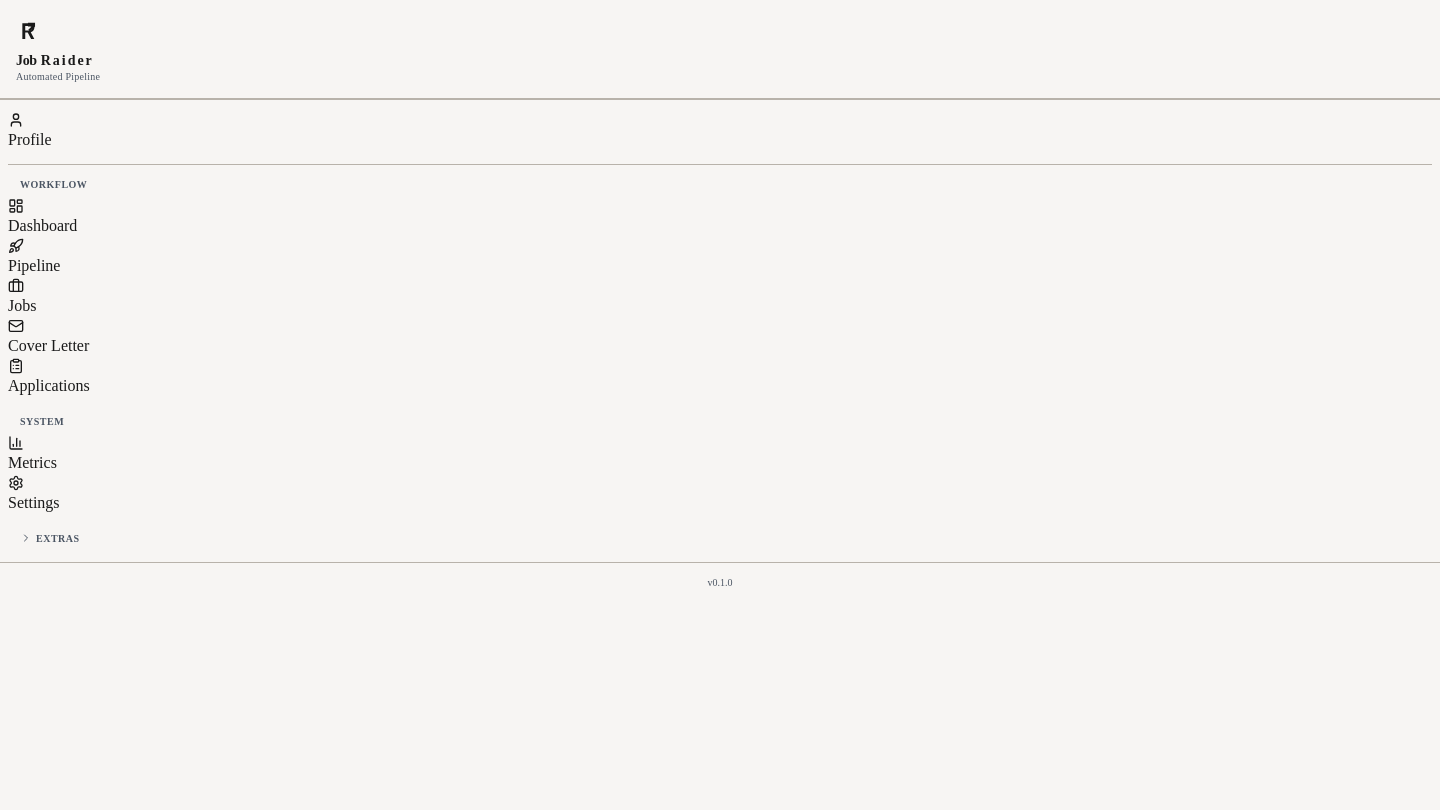
Test case: SidebarContent › opens the extras on a click
Click the button "Extras": (58, 538) x1=8 y1=530 x2=1432 y2=550
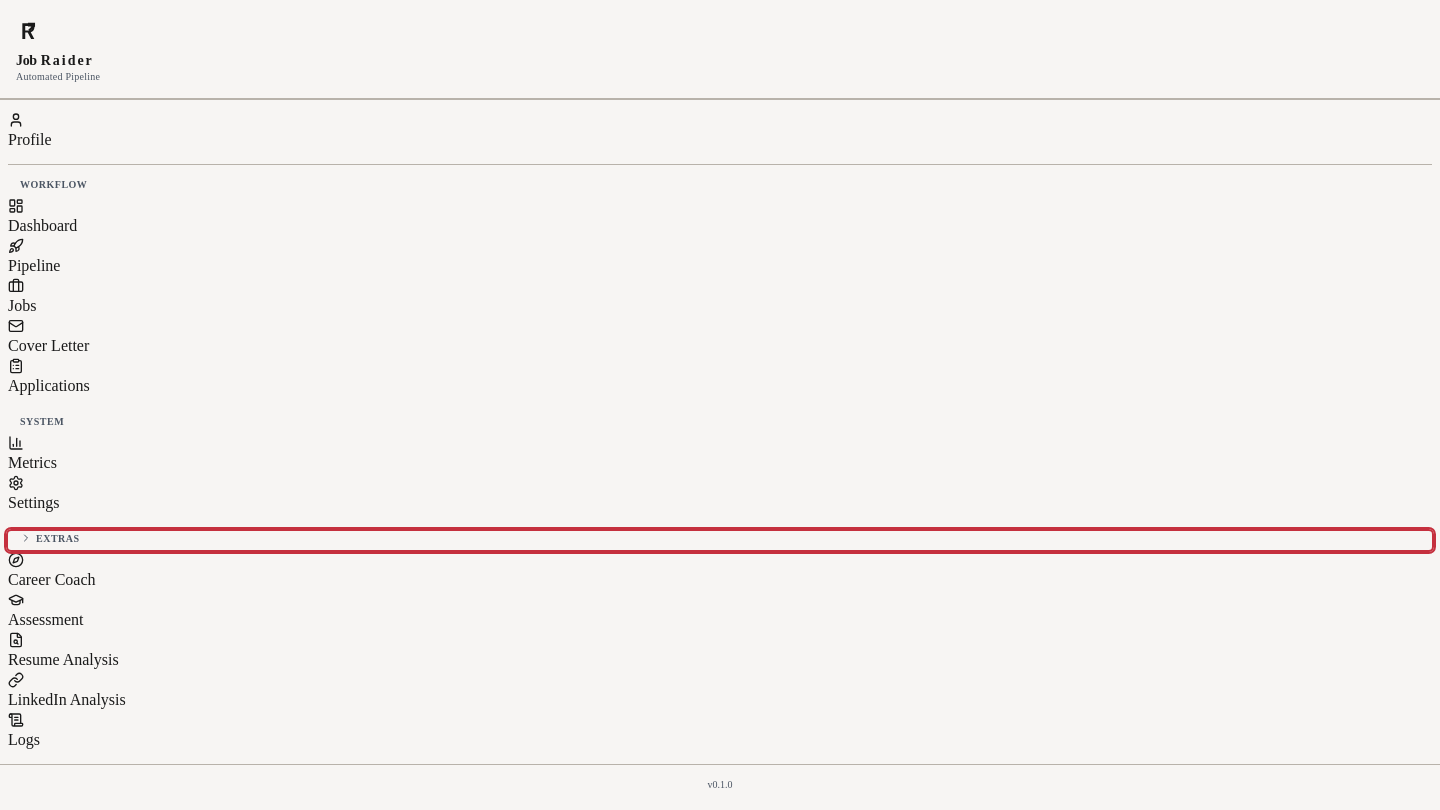
Now the button "Extras" is expanded, box x1=8 y1=530 x2=1432 y2=550
